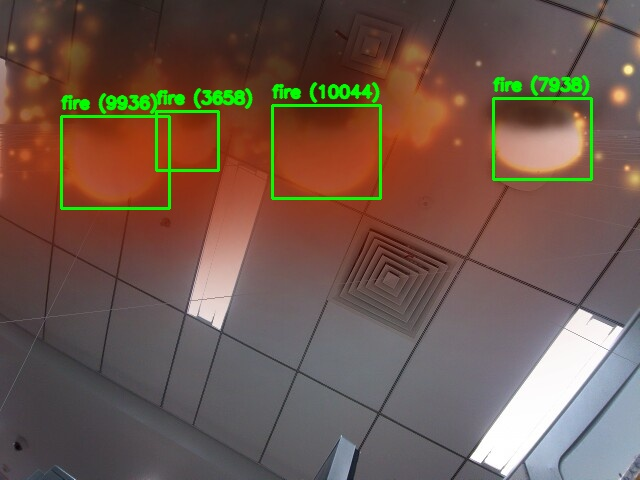fire: (272, 105, 380, 198), (61, 116, 169, 208), (493, 98, 591, 179), (156, 111, 218, 170)
